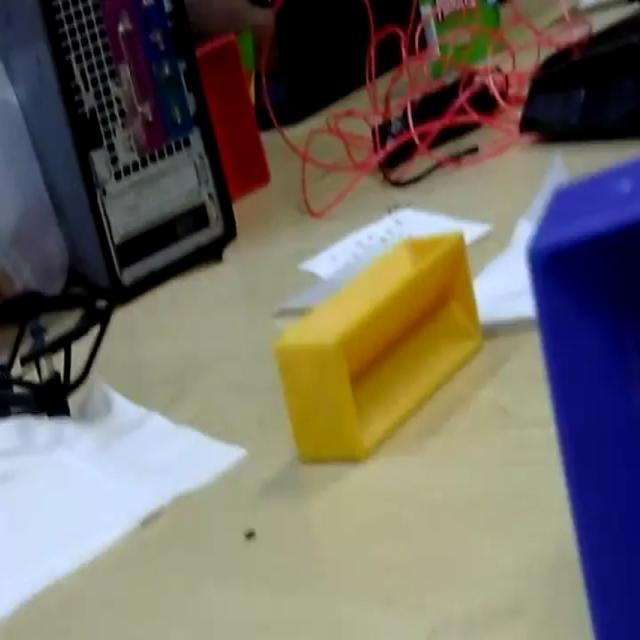blue_block: (525, 152, 639, 636)
red_block: (193, 30, 271, 202)
yellow_block: (272, 228, 483, 463)
